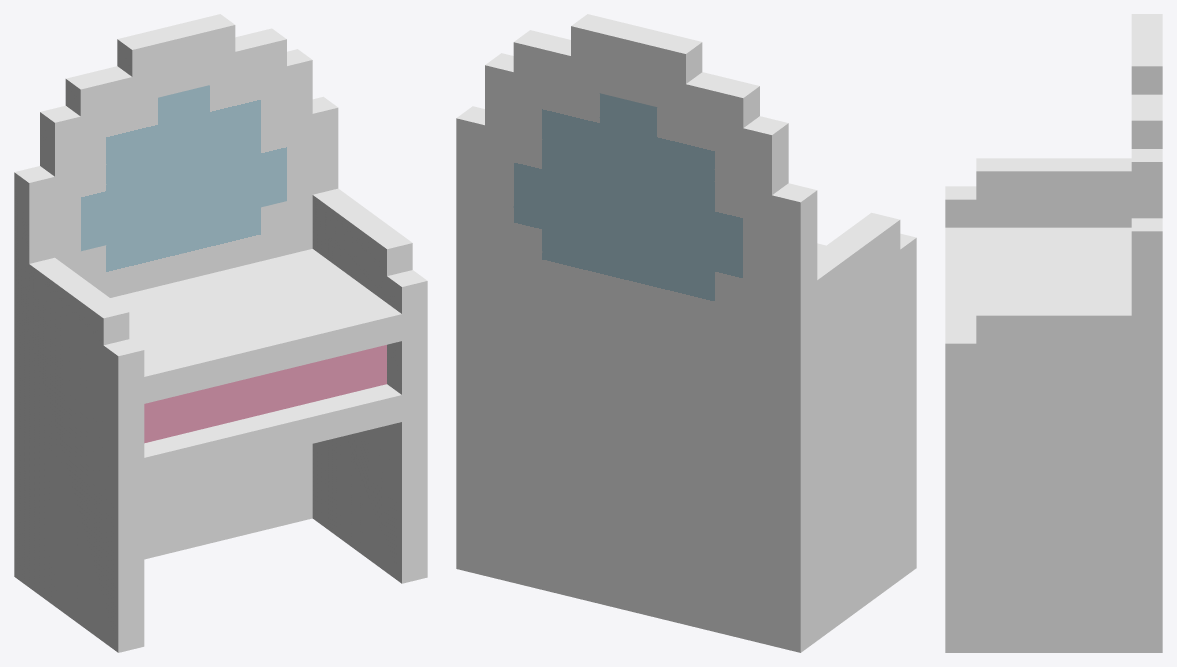
The model's file is Dresser.fbx.
The picture shows the model from 3 angles, left to right: view 1: azimuth 30°, elevation 25°; view 2: azimuth 150°, elevation 25°; view 3: azimuth 270°, elevation 25°; orthographic projection. The views are drawn at different scales.
Parts seen in each view (by area): view 1: Dresser; view 2: Dresser; view 3: Dresser.
Part boxes in pixels (x1=…): Dresser: x1=14, y1=14, x2=427, y2=652; Dresser: x1=456, y1=14, x2=916, y2=652; Dresser: x1=945, y1=14, x2=1162, y2=652.
Size of the model in its own units: 12 by 19 by 7.
Materials: 1 (1 with a texture image).
